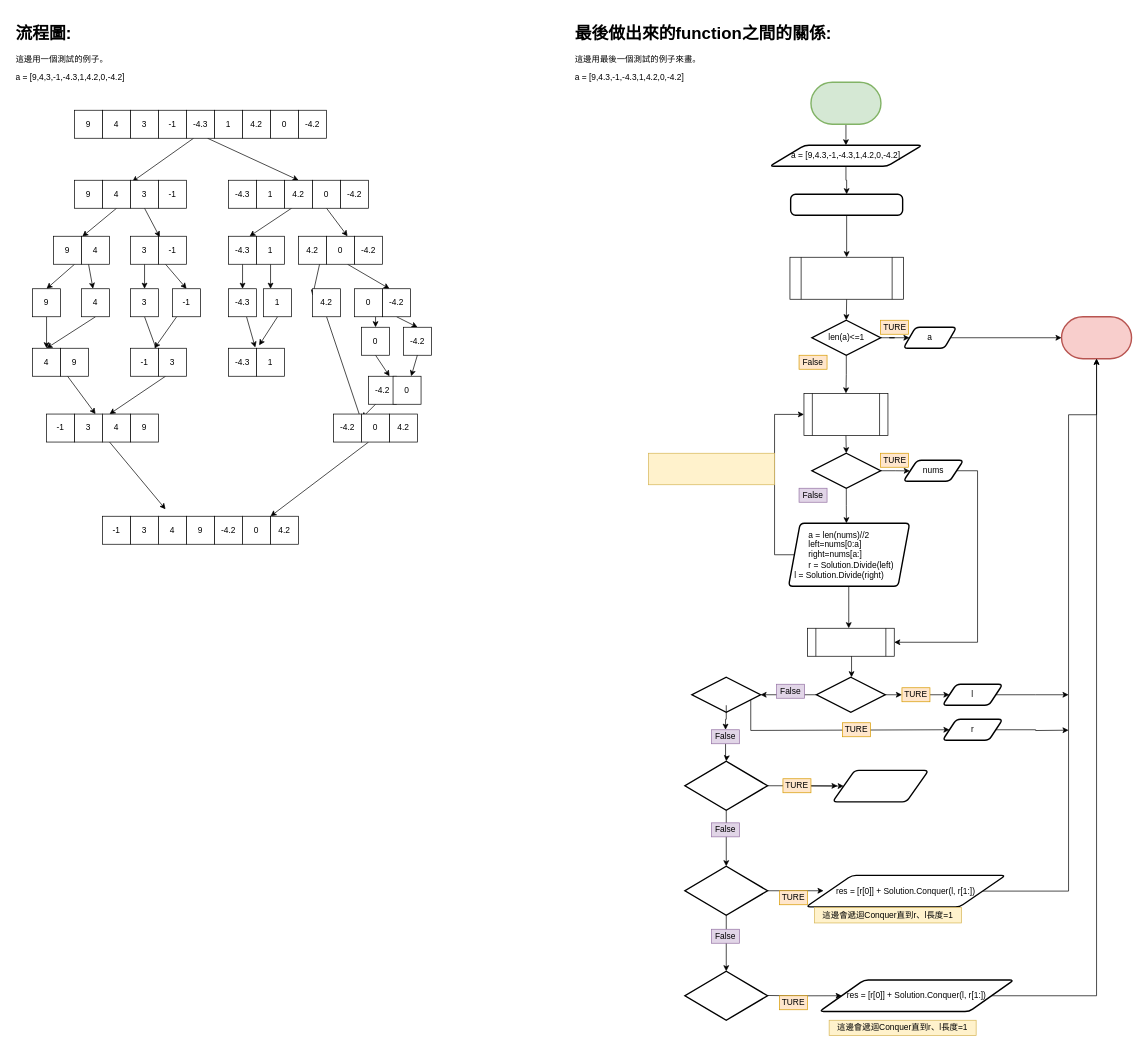
Image size: 1144x1048. Some labels were removed from this diagram. Here are the shapes that lost their labels. From the top down, the centre of each, then its label:
At (845,103): "start".
At (846,204): "Solution().merge_sort(a)".
At (846,278): "merge_sort(self,nums)".
At (1096,337): "end".
At (845,414): "Divide(nums)".
At (711,469): "r = Solution.Divide(left) l = Solution.Divide(right) 這邊會遞迴".
At (846,470): "len(nums)<=1".
At (850,642): "Conquer(r,l)".
At (726,694): "len(l)==0".
At (851,694): "len(r)==0".
At (726,785): "l、r長度為1 l[0]<r[0]".
At (880,785): "res ([l,r])".
At (726,890): "l[0] < r[0]".
At (726,995): "l[0]<l[0]".
